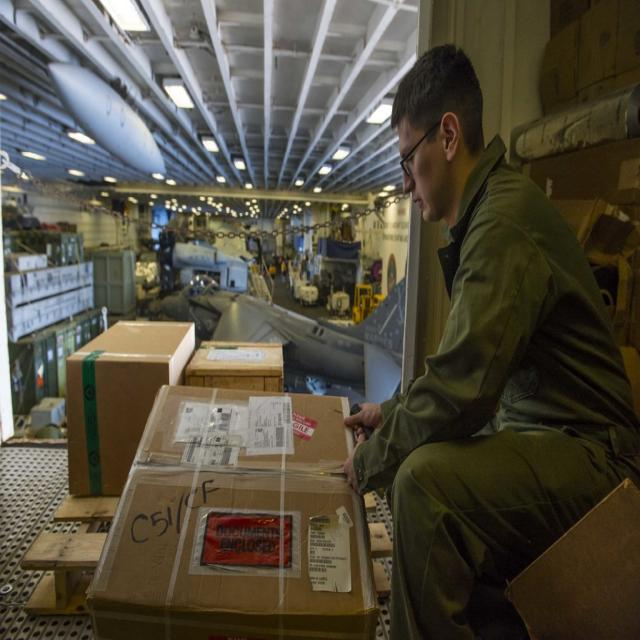Box: (58, 366, 398, 630), (71, 311, 193, 507), (182, 333, 287, 389)
